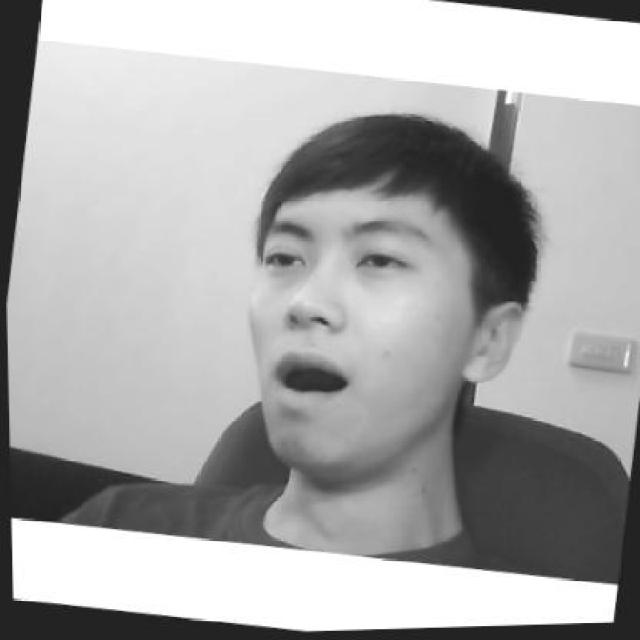inattentif: (224, 93, 547, 498)
